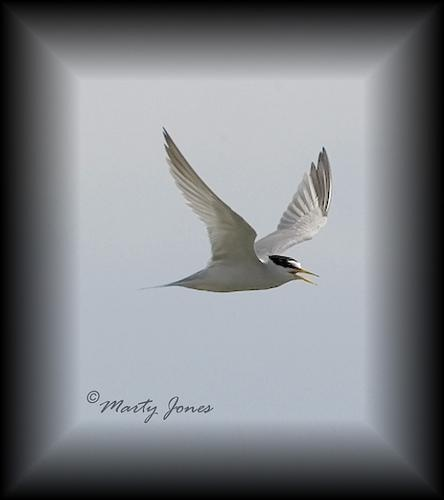bird: (136, 122, 336, 297)
